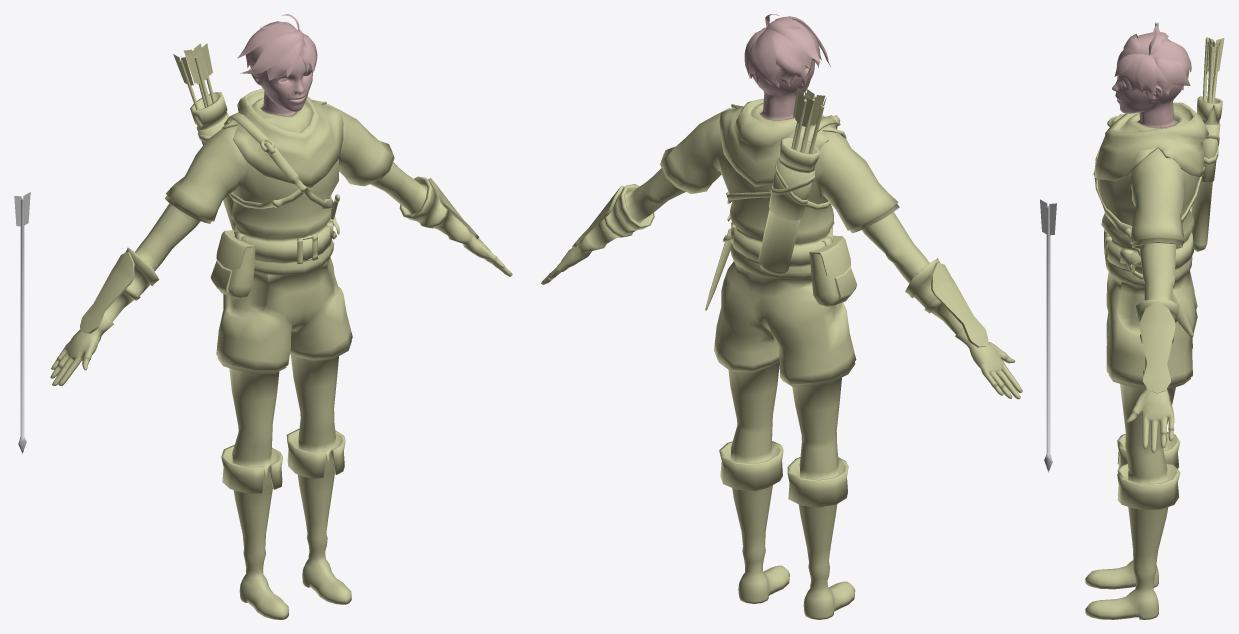
File: Bow2.fbx
3 views of the same model, side by side, from view 1: azimuth 30°, elevation 25°; view 2: azimuth 150°, elevation 25°; view 3: azimuth 270°, elevation 25° (orthographic). The views are drawn at different scales.
Parts seen in each view (by area): view 1: Object060, Object051; view 2: Object060, Object051; view 3: Object060.
Boxes of the visible parts, x1,y1,x2,y2 form: Object060: (50, 14, 512, 619); Object051: (14, 192, 30, 454); Object060: (541, 14, 1022, 619); Object051: (1040, 199, 1056, 472); Object060: (1085, 25, 1224, 619).
Size of the model in its own units: 15383 by 16954 by 3747.
